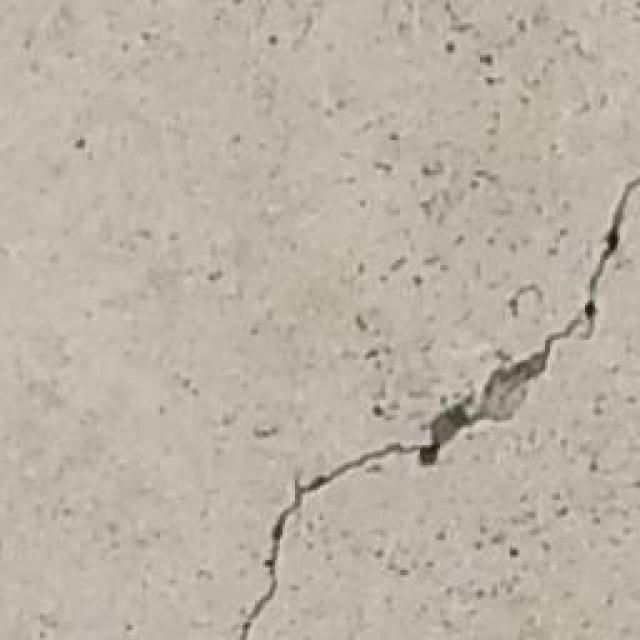concrete-crack: (234, 183, 636, 638)
